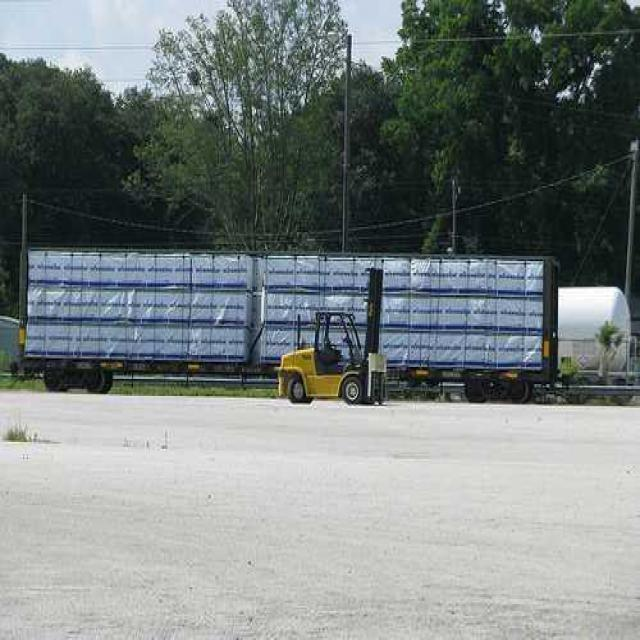forklift: (263, 268, 388, 407)
